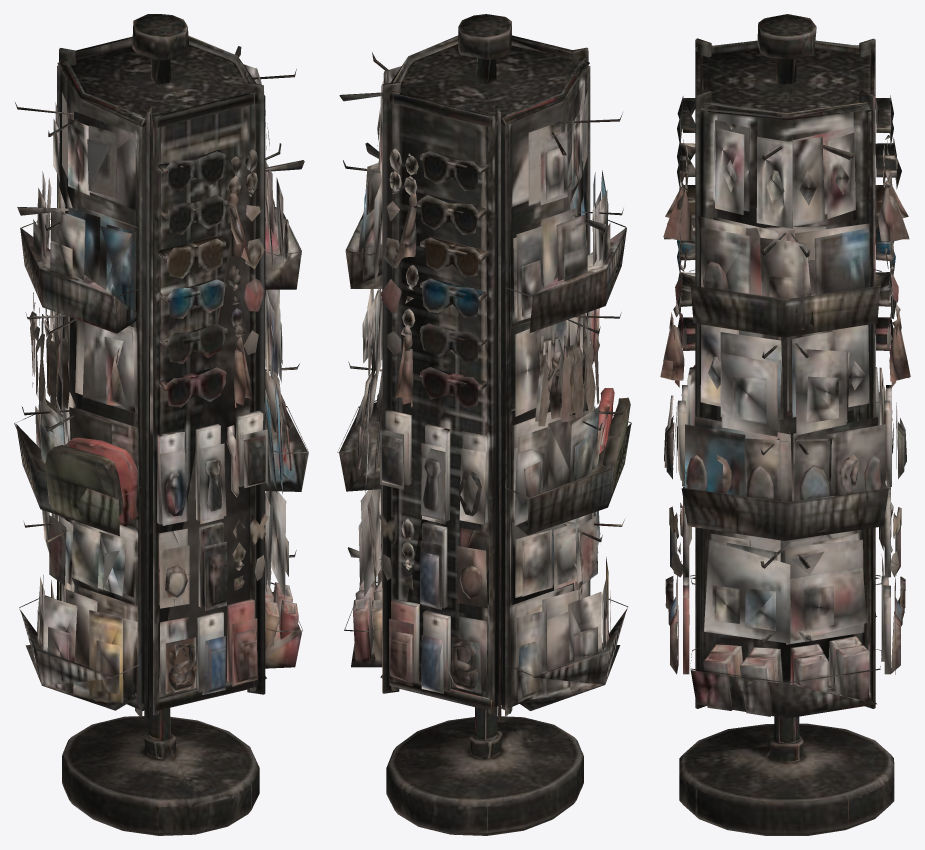
The model's file is p7-spinner-rack-t25.glb.
3 renders of one model, left to right at view 1: azimuth 30°, elevation 25°; view 2: azimuth 150°, elevation 25°; view 3: azimuth 270°, elevation 25°, orthographic.
Parts seen in each view (by area): view 1: p7-spinner-rack-t25; view 2: p7-spinner-rack-t25; view 3: p7-spinner-rack-t25.
Boxes of the visible parts, <box> form: p7-spinner-rack-t25: <box>14,14,308,835</box>; p7-spinner-rack-t25: <box>337,14,631,835</box>; p7-spinner-rack-t25: <box>660,14,910,835</box>.
Size of the model in its own units: 0.611 by 1.7 by 0.5.
Materials: 1 (1 with a texture image).
